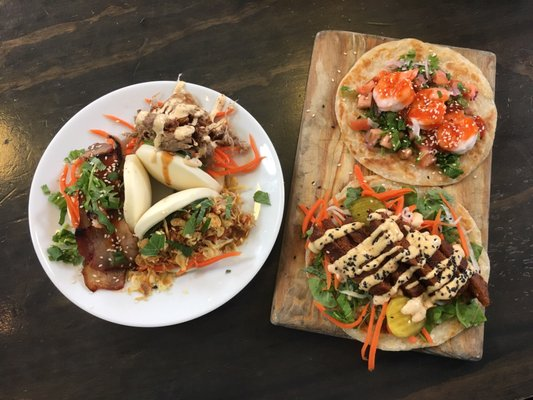curry: (47, 227, 84, 266)
